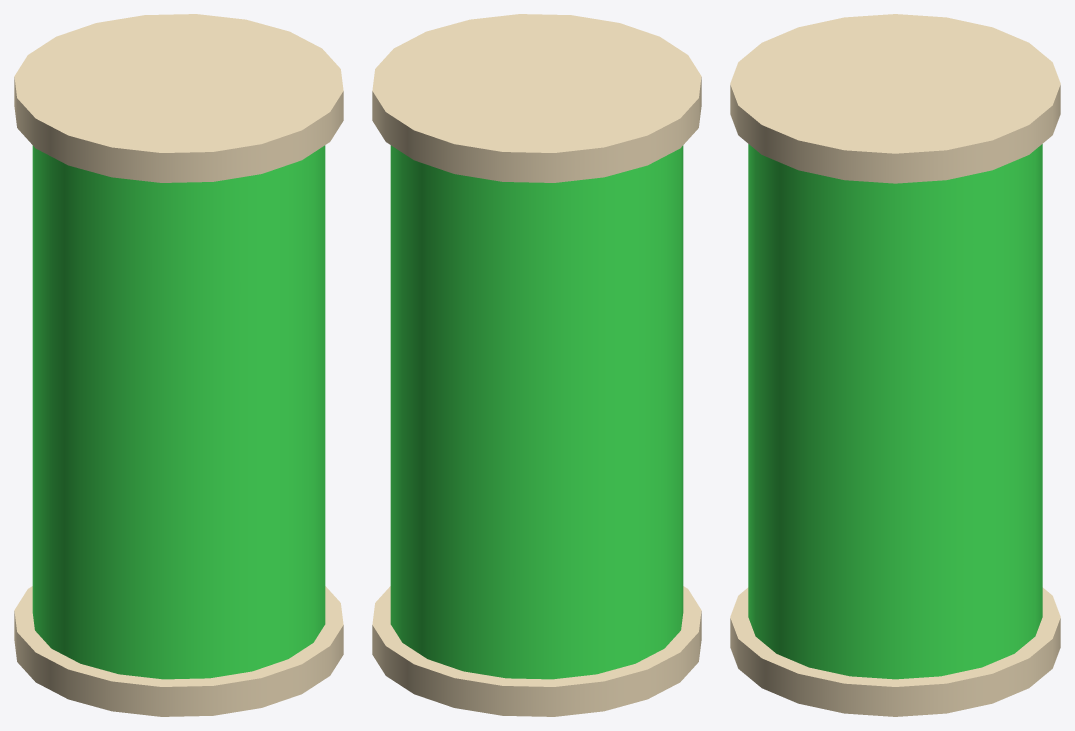
The model's file is PushableObject 1.fbx.
3 views of the same model, side by side, from view 1: azimuth 30°, elevation 25°; view 2: azimuth 150°, elevation 25°; view 3: azimuth 270°, elevation 25° (orthographic).
Visible parts, largest first — view 1: PushableObject_1, PushableObject_2, PushableObject_3; view 2: PushableObject_1, PushableObject_2, PushableObject_3; view 3: PushableObject_1, PushableObject_2, PushableObject_3.
Boxes of the visible parts, left/top/right/bottom form: PushableObject_1: left=32, top=145, right=325, bottom=679; PushableObject_2: left=14, top=14, right=343, bottom=182; PushableObject_3: left=14, top=586, right=343, bottom=716; PushableObject_1: left=390, top=145, right=683, bottom=679; PushableObject_2: left=372, top=14, right=701, bottom=182; PushableObject_3: left=372, top=586, right=701, bottom=716; PushableObject_1: left=748, top=144, right=1042, bottom=679; PushableObject_2: left=730, top=14, right=1060, bottom=183; PushableObject_3: left=730, top=587, right=1060, bottom=716.
Size of the model in its own units: 112 by 211 by 112.
